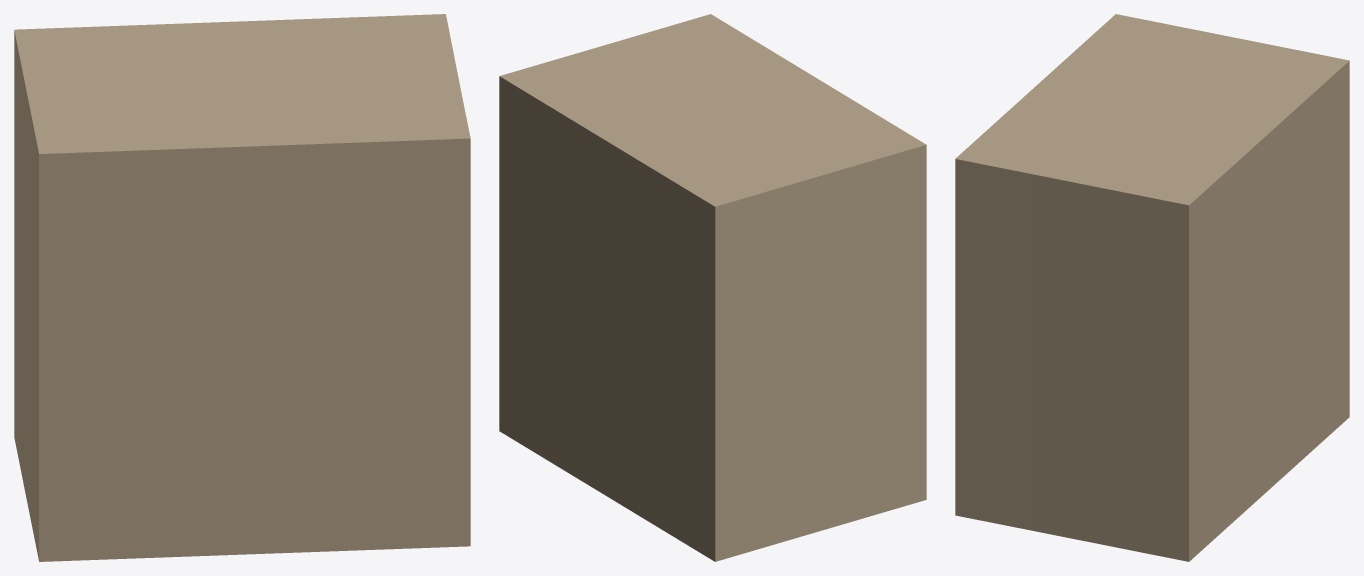
File: bld_99520156.dae
3 renders of one model, left to right at view 1: azimuth 30°, elevation 25°; view 2: azimuth 150°, elevation 25°; view 3: azimuth 270°, elevation 25°, orthographic. The views are drawn at different scales.
Parts seen in each view (by area): view 1: bld_99520156; view 2: bld_99520156; view 3: bld_99520156.
Boxes of the visible parts, box(x1,y1,x2,y2) form: bld_99520156: box(14, 14, 470, 561); bld_99520156: box(499, 14, 926, 561); bld_99520156: box(955, 14, 1349, 561).
Bounding box in the file's own units: 9.21 × 8.02 × 8.
